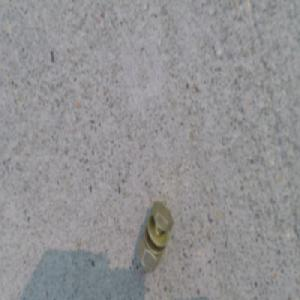BoltNutSet: (133, 198, 167, 270)
